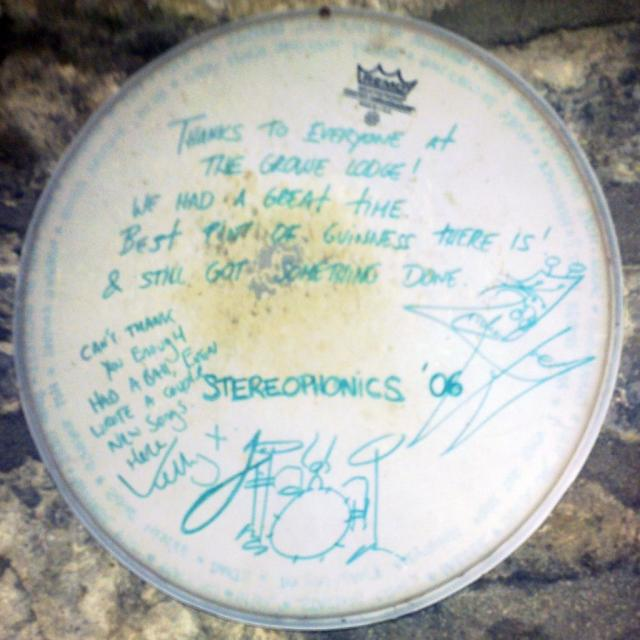non-organic waste: (26, 13, 630, 622)
